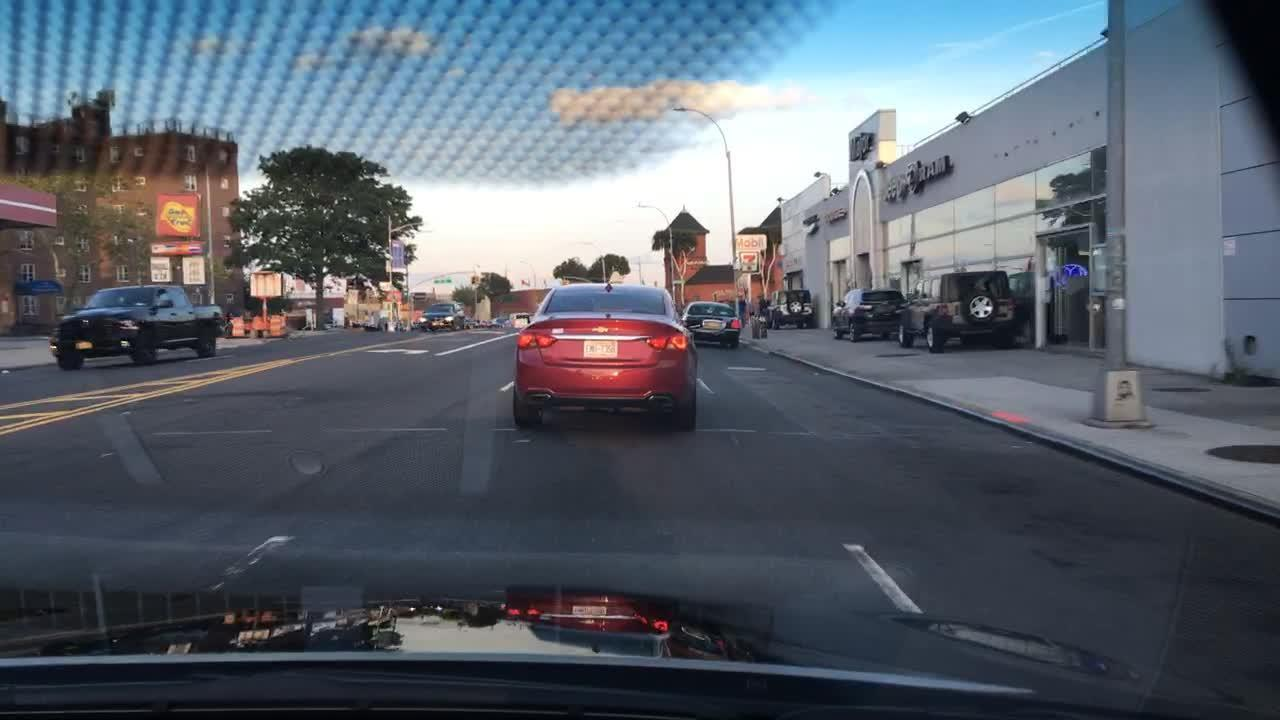chevrolet: (589, 324, 610, 335)
